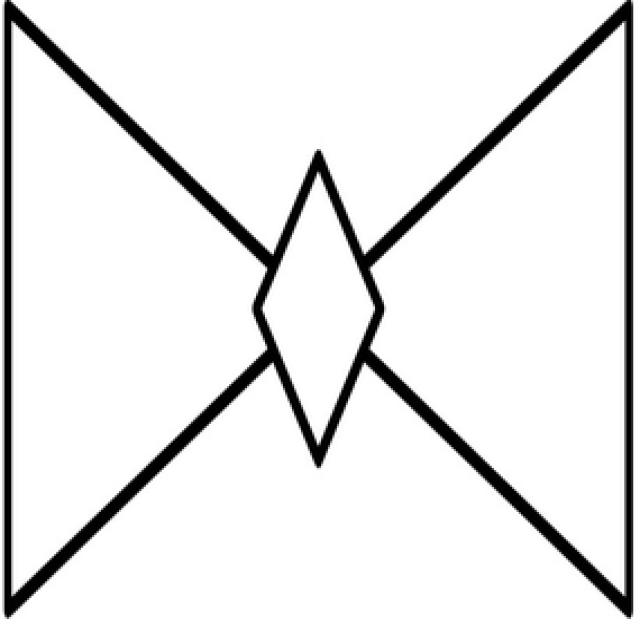Plug Valve: (3, 2, 634, 613)
